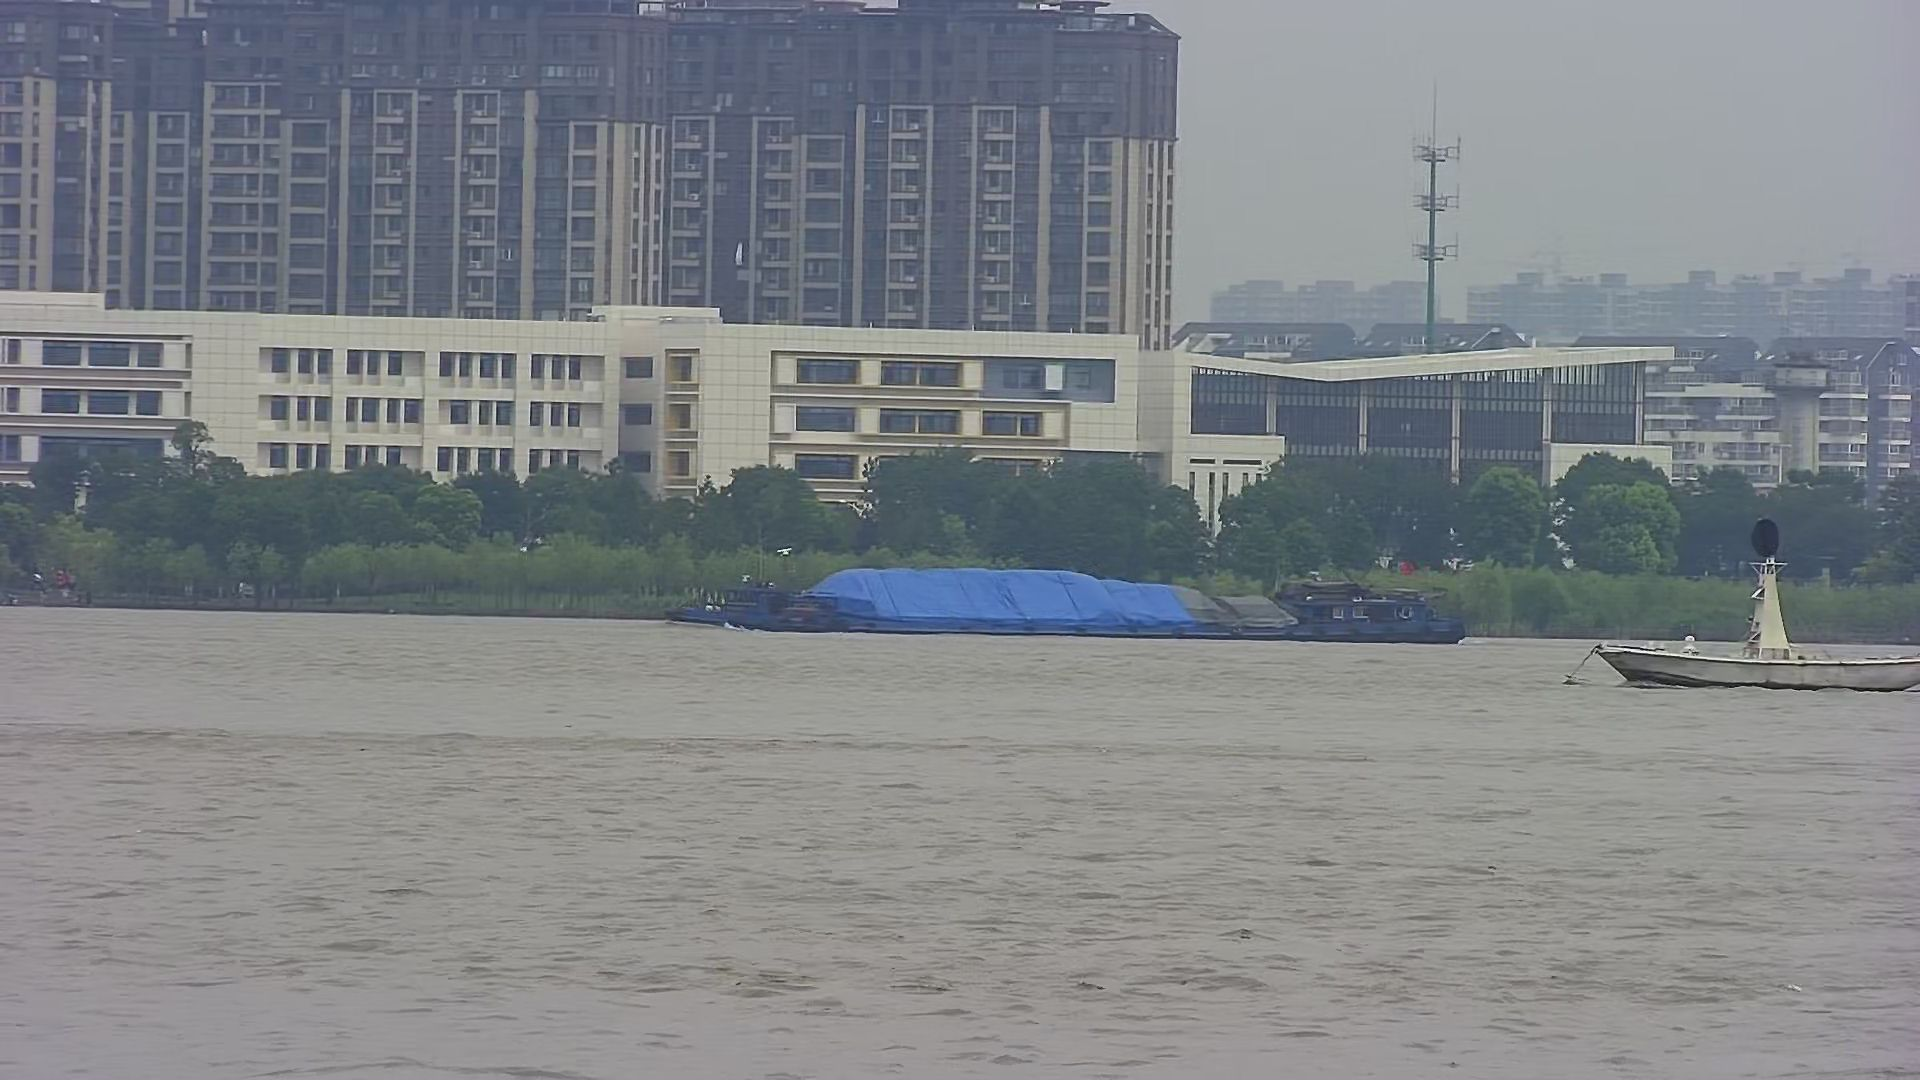boat: (1578, 508, 1920, 698)
ship: (653, 512, 1484, 653)
